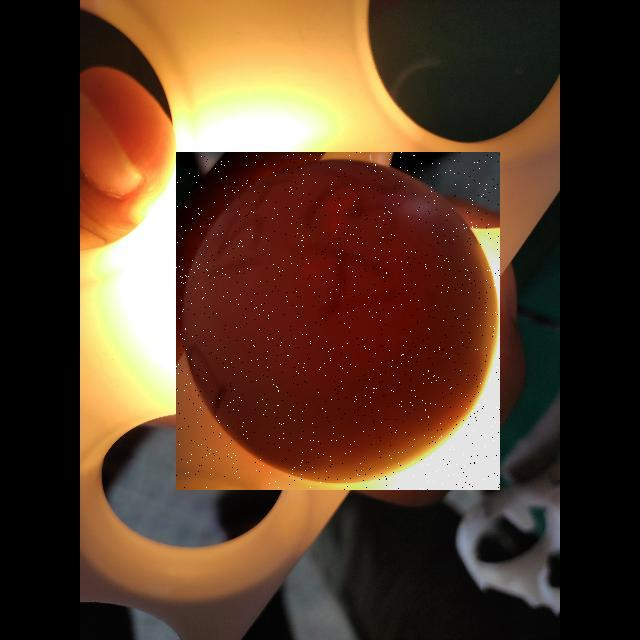Fertile: (176, 152, 500, 490)
